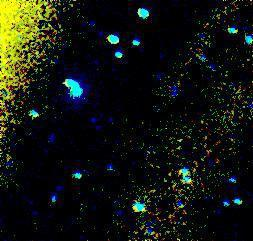star: (88, 107, 118, 137)
